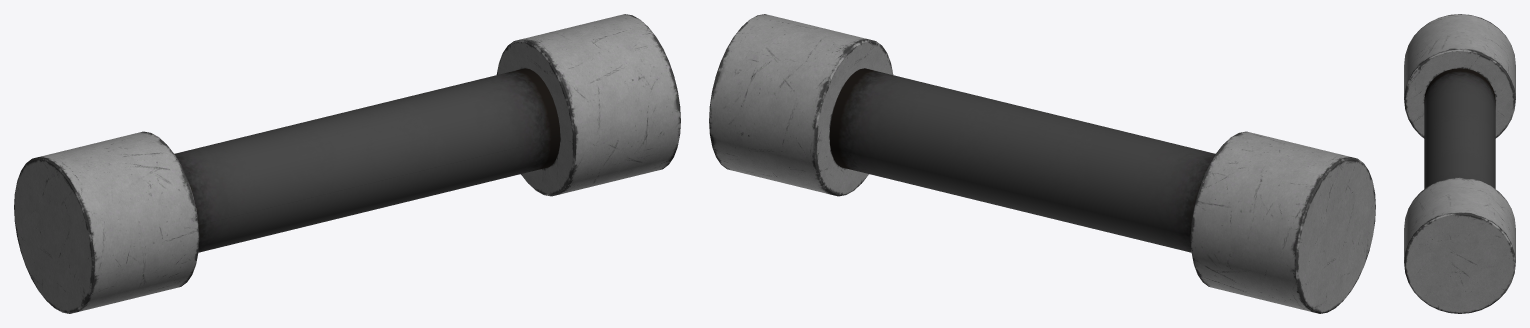
3 views of the same model, side by side, from view 1: azimuth 30°, elevation 25°; view 2: azimuth 150°, elevation 25°; view 3: azimuth 270°, elevation 25° (orthographic). The views are drawn at different scales.
Visible parts, largest first — view 1: Fuse; view 2: Fuse; view 3: Fuse.
Boxes of the visible parts, bbox=[...] form: Fuse: bbox=[14, 14, 680, 313]; Fuse: bbox=[709, 14, 1375, 313]; Fuse: bbox=[1404, 14, 1515, 313].
Bounding box in the file's own units: 11 × 2.6 × 2.6.
Materials: 2 (2 with a texture image).
